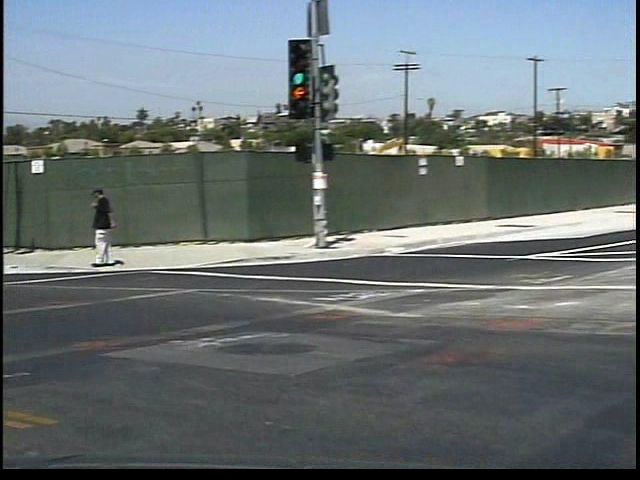person: (74, 183, 117, 279)
